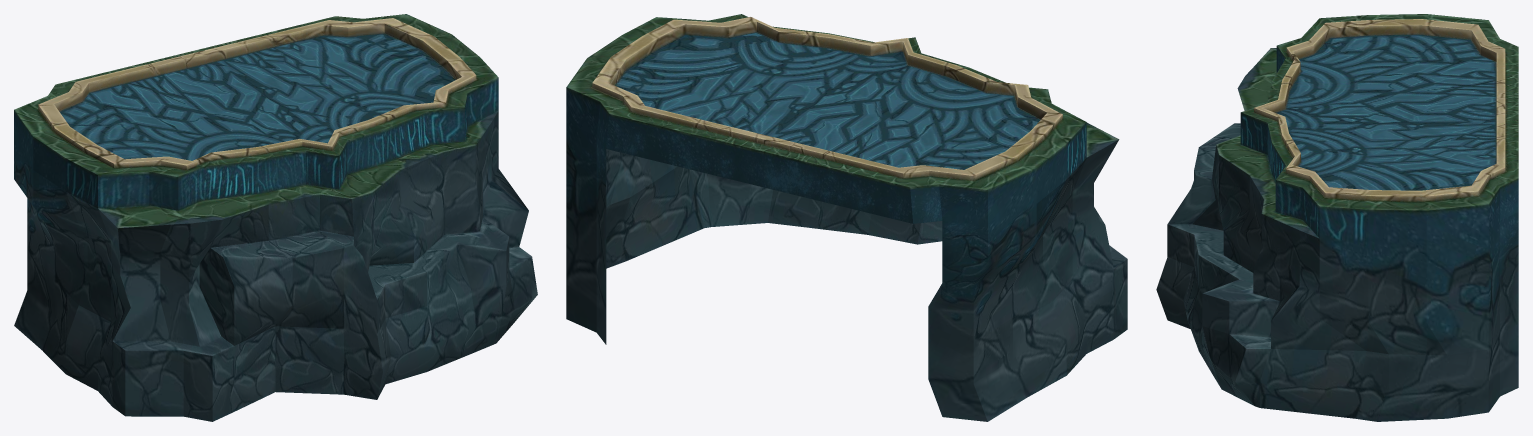
Rendered from broken_staircase.fbx.
The picture shows the model from 3 angles, left to right: view 1: azimuth 30°, elevation 25°; view 2: azimuth 150°, elevation 25°; view 3: azimuth 270°, elevation 25°; orthographic projection. The views are drawn at different scales.
Visible parts, largest first — view 1: destroyed_staircase; view 2: destroyed_staircase; view 3: destroyed_staircase.
Part boxes in pixels (x1,y1,x2,y2): destroyed_staircase: [14, 14, 537, 421]; destroyed_staircase: [566, 14, 1127, 421]; destroyed_staircase: [1156, 14, 1518, 421].
Size of the model in its own units: 427 by 211 by 327.
